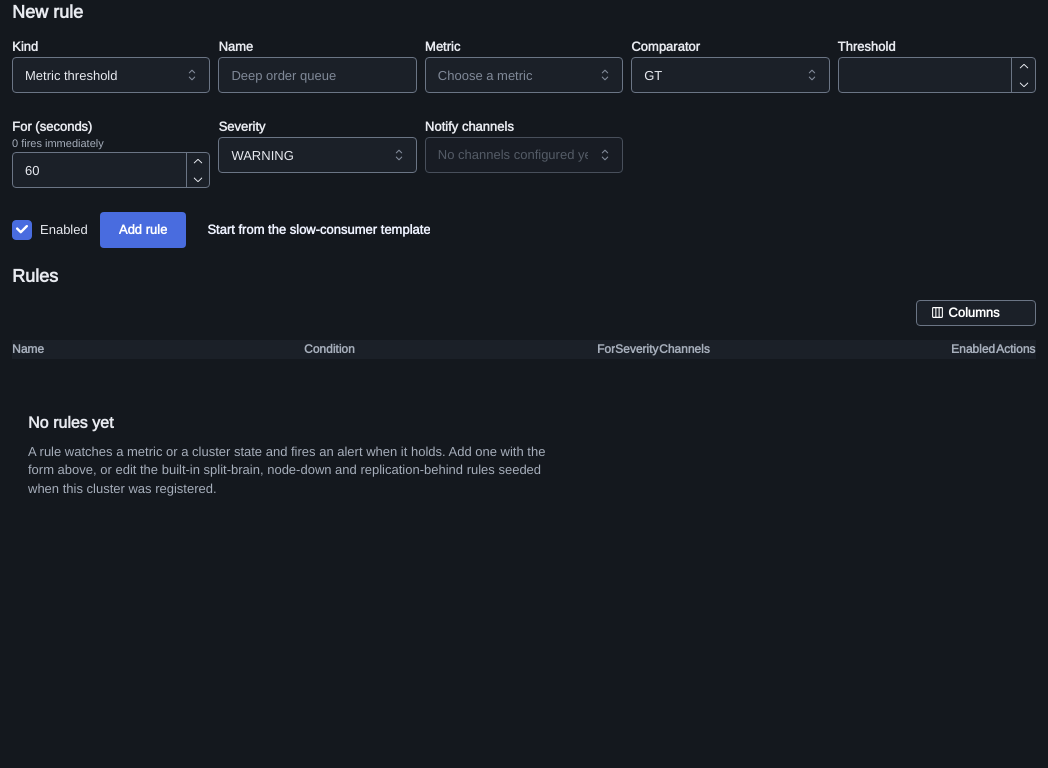
Test: RulesPanel › switching the rule kind to state hides the metric fields and shows the state-condition select
This screenshot has width=1048, height=768.
Expected: the text "No rules yet" is shown, x1=28 y1=411 x2=113 y2=435
Expected: the dropdown labelled "Metric" is shown, x1=425 y1=57 x2=623 y2=93
Click the dropdown labelled "Kind" at (111, 75), box x1=12 y1=57 x2=210 y2=93
(page scrolled)
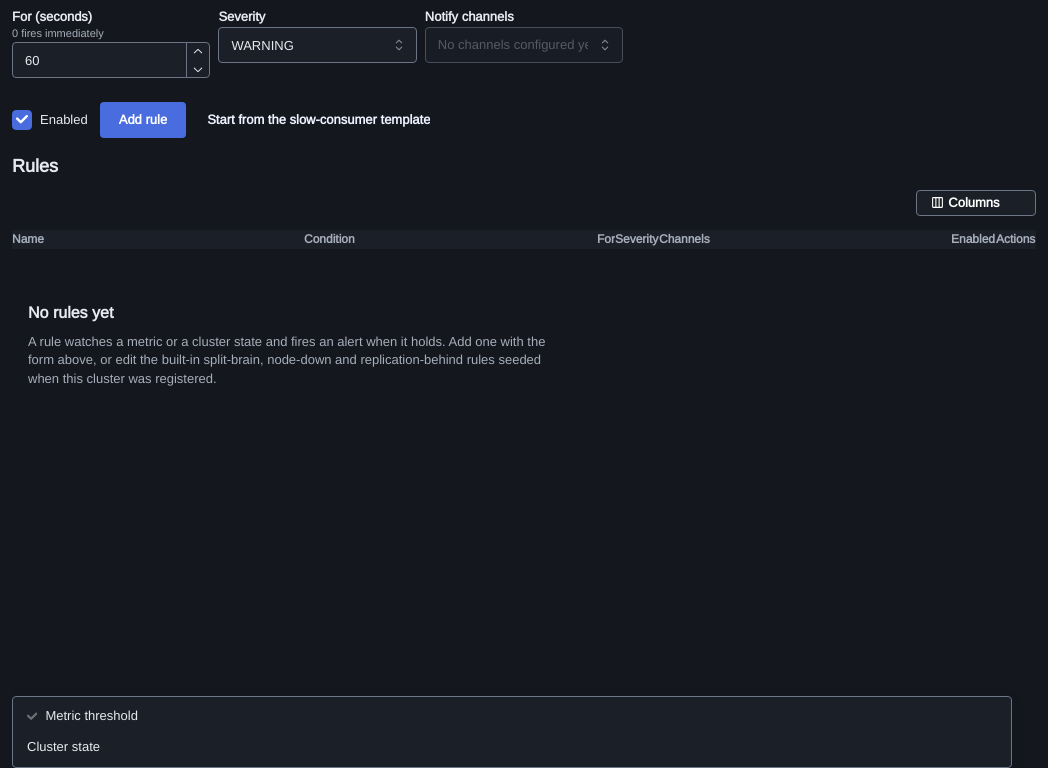
Click the option "Cluster state" at (64, 746), box x1=27 y1=738 x2=100 y2=755
(page scrolled)
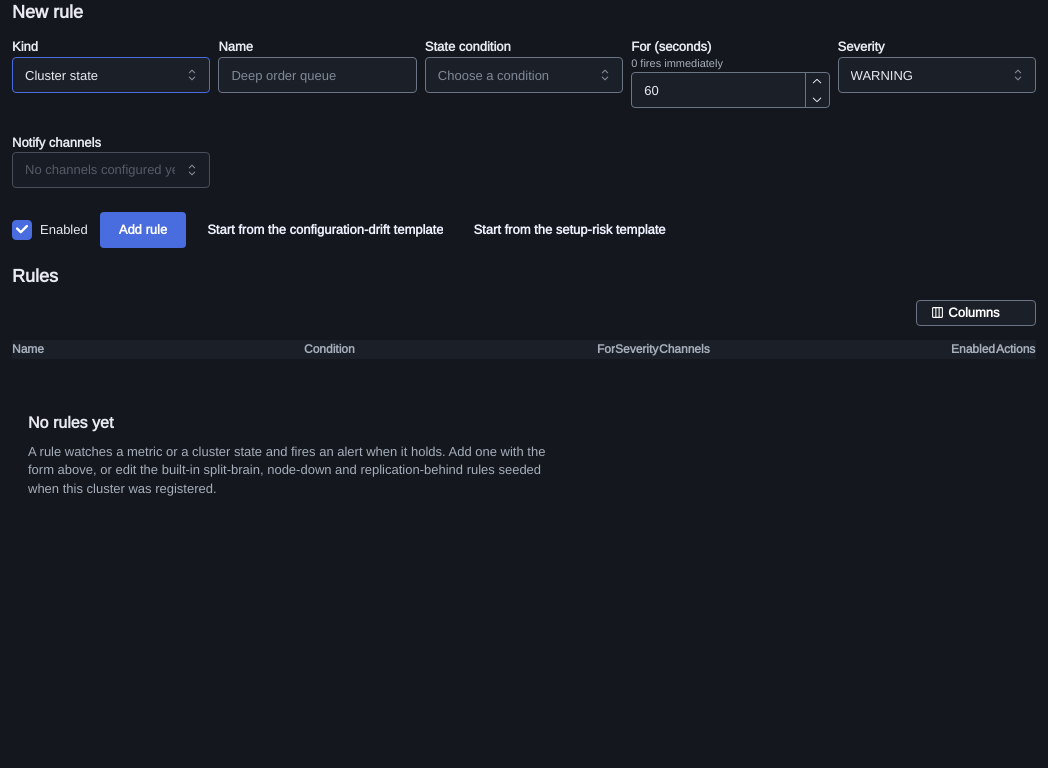
Expected: the dropdown labelled "State condition" is shown, x1=425 y1=57 x2=623 y2=93
